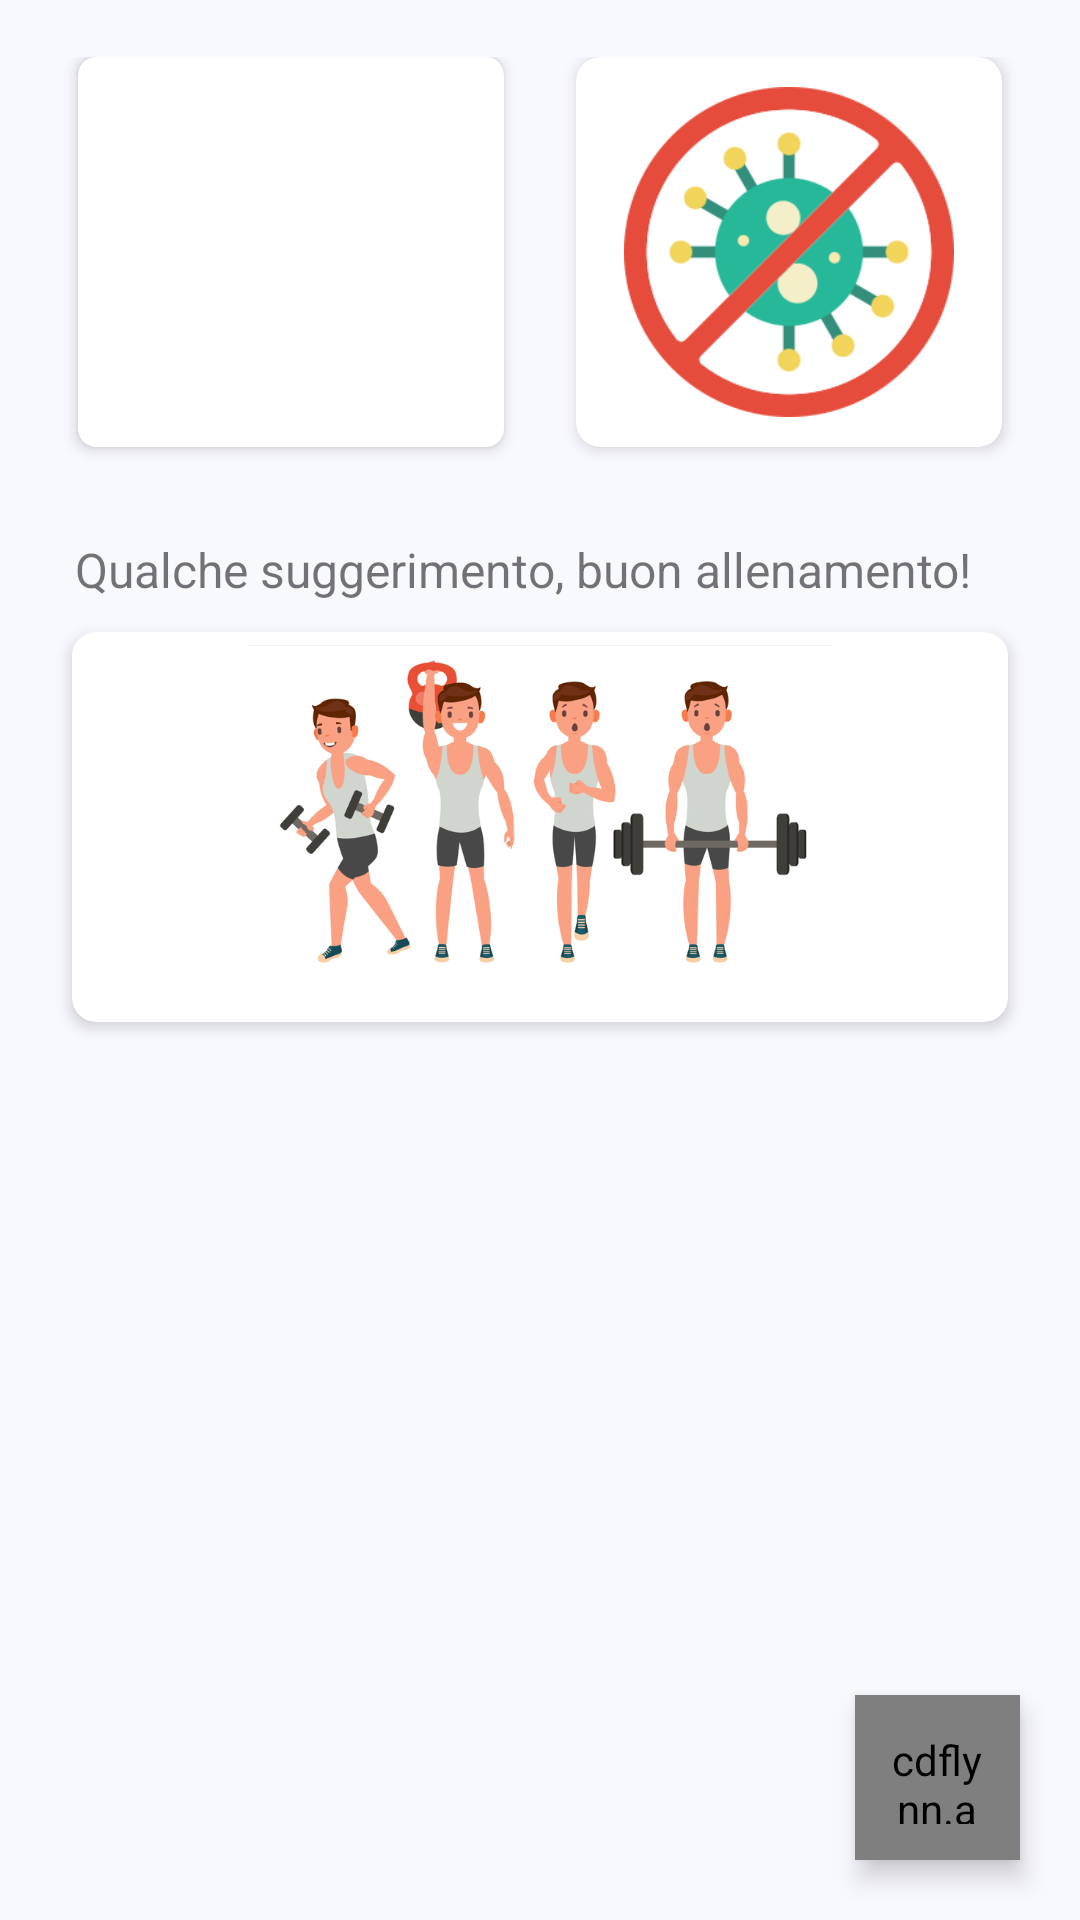

Icons on this 1080x1920 Android screen, each with the point to tap as (x,y):
virus: (789,252)
